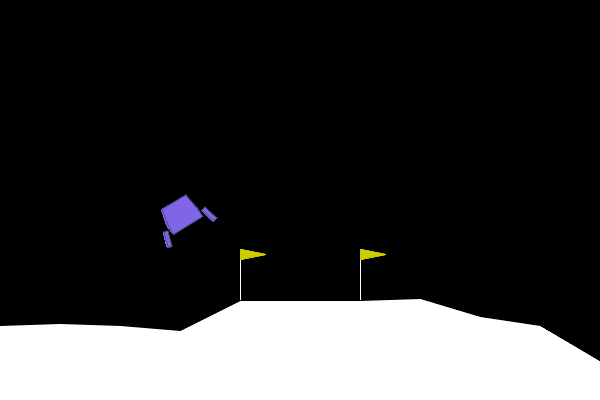lander: (147, 185, 219, 251)
